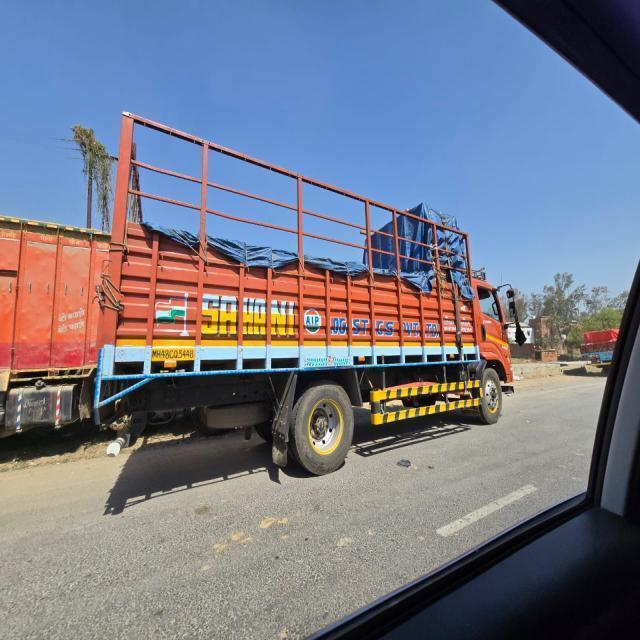uncovered: (110, 112, 512, 444)
